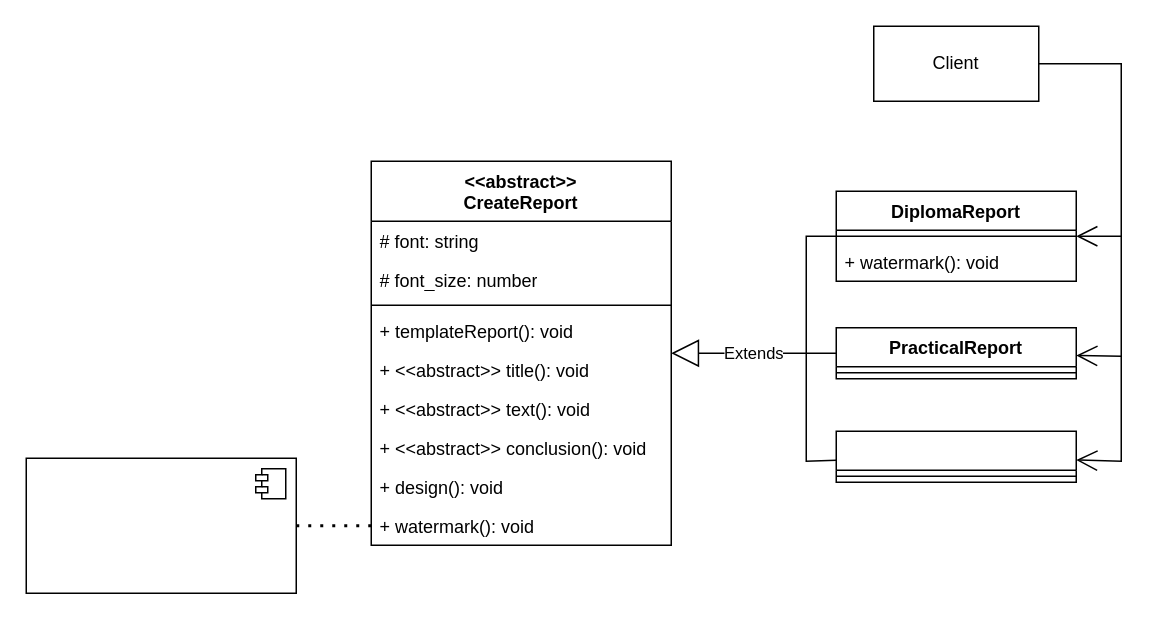
Image size: 1169x620. Some labels were removed from this diagram. Here are the shapes that lost their labels. From the top down, the centre of each, then its label:
the point at 955,456: CourseReport
the point at 160,525: «Annotation» watermark() is optional hooks
